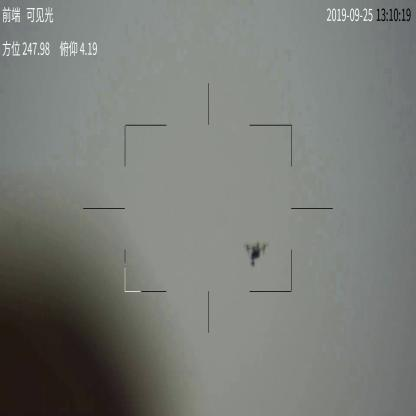uav: (243, 240, 269, 268)
